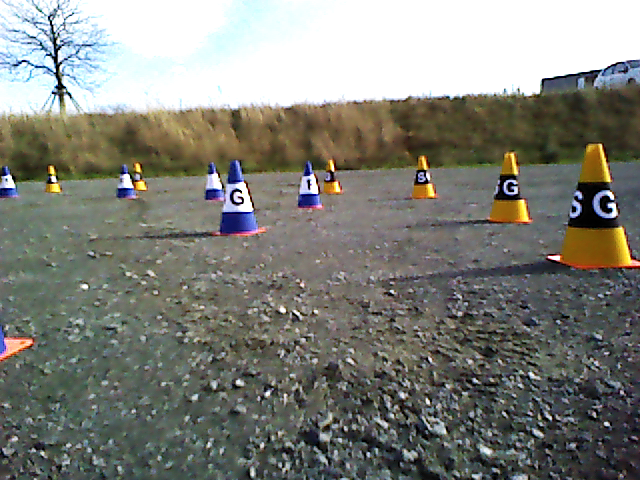bluecone: (219, 161, 254, 232), (298, 163, 320, 205), (205, 164, 227, 199), (118, 165, 136, 197)
yellowcone: (564, 142, 629, 262), (491, 152, 529, 218), (413, 156, 434, 196), (324, 160, 340, 192), (133, 163, 147, 189)
